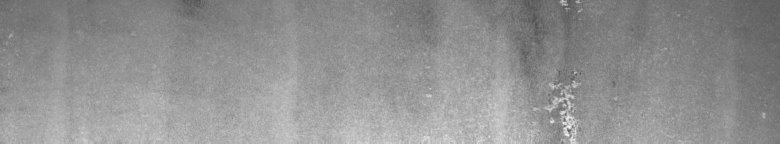hc: (522, 4, 617, 136)
